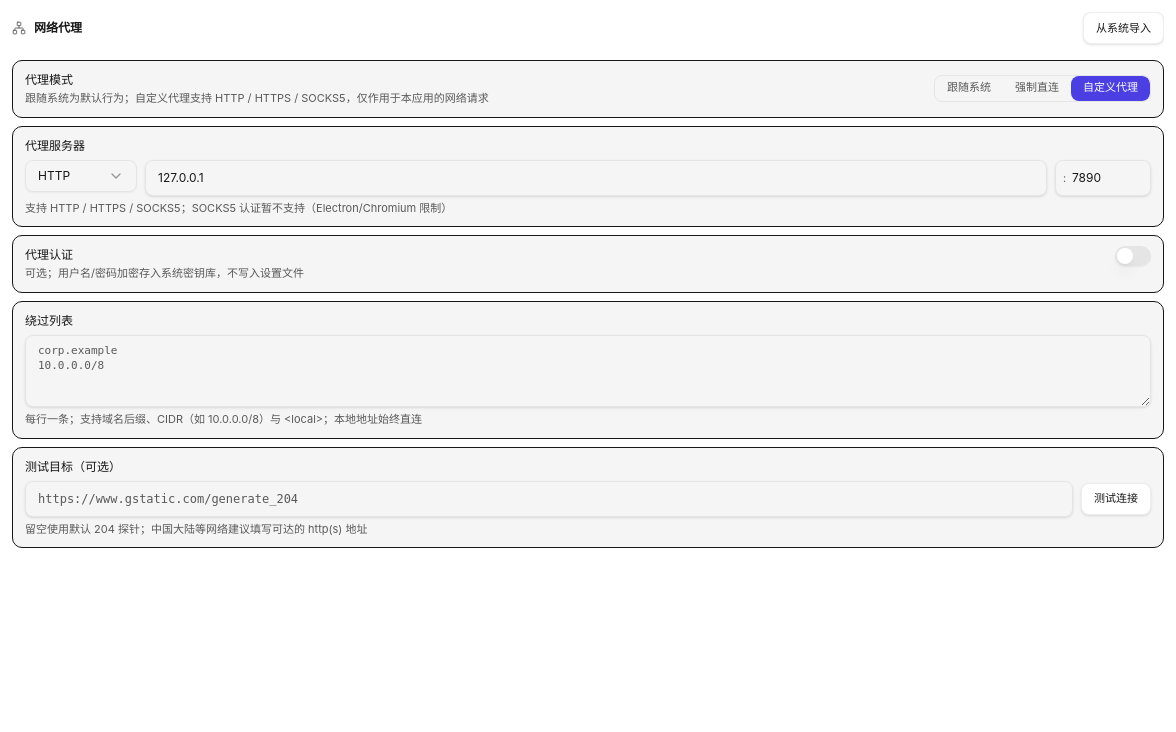
Scenario: ProxySection › SOCKS5：认证开关禁用并显示限制说明
The width and height of the screenshot is (1176, 732).
Click the dropdown named "协议".
click(81, 176)  # box [25,160,137,192]
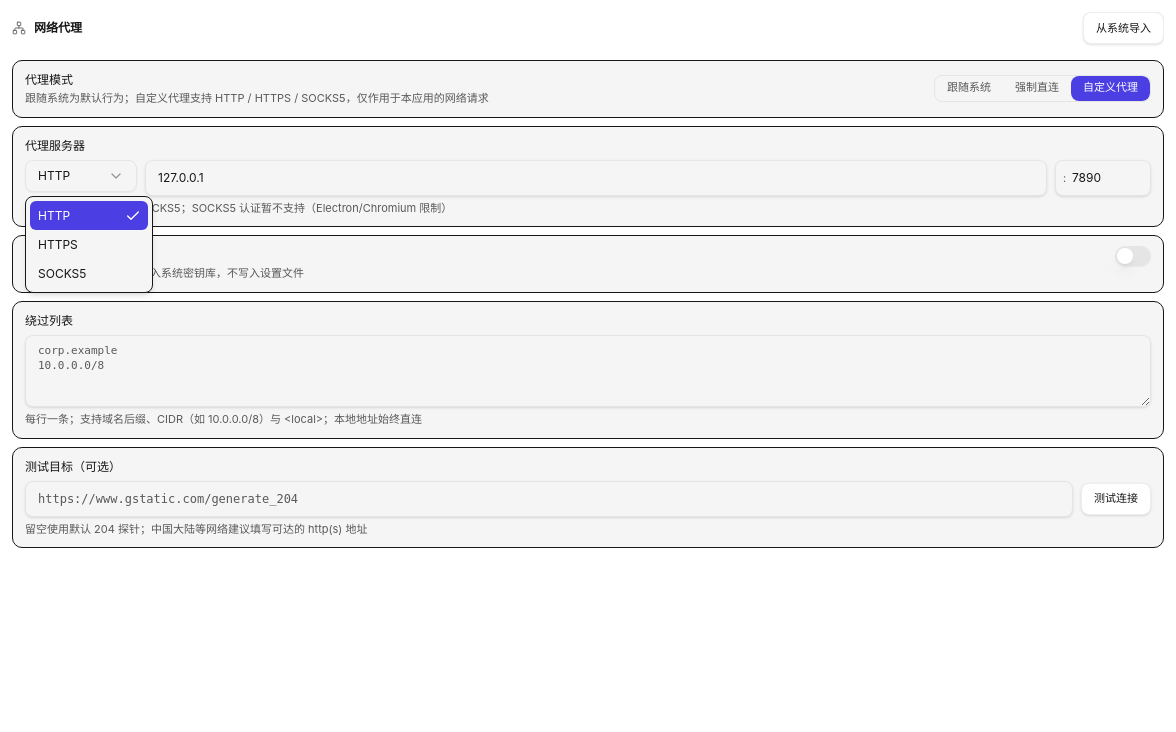
Click the option "SOCKS5".
click(62, 274)  # box [38,266,86,281]
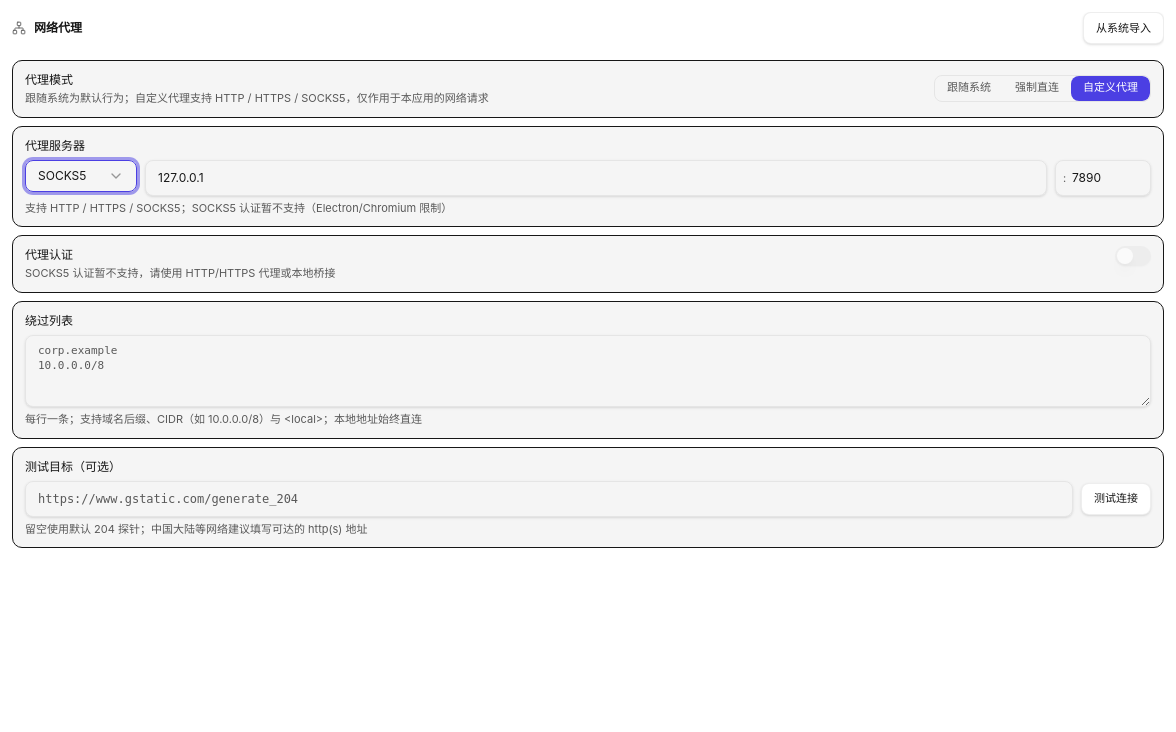
Expected: the text "SOCKS5 认证暂不支持，请使用 HTTP/HTTPS 代理或本地桥接" is shown, [25,265,336,282]
